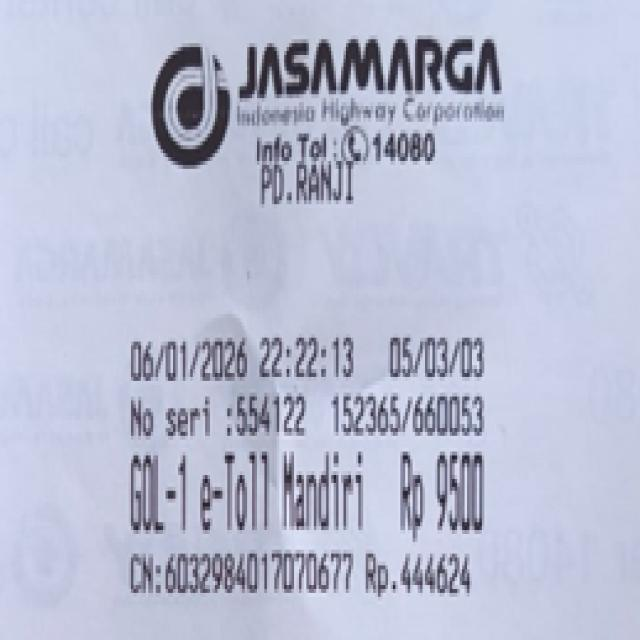date: (131, 333, 364, 385)
store: (233, 38, 512, 98)
total: (395, 451, 500, 531)
